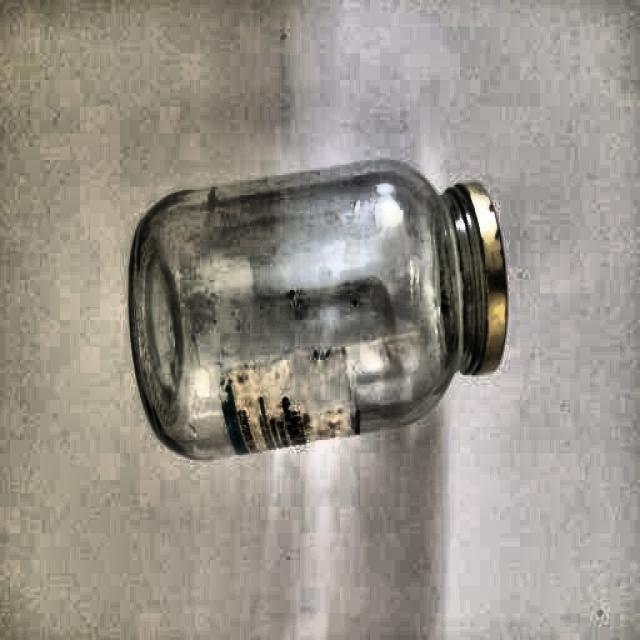glass: (130, 157, 505, 458)
